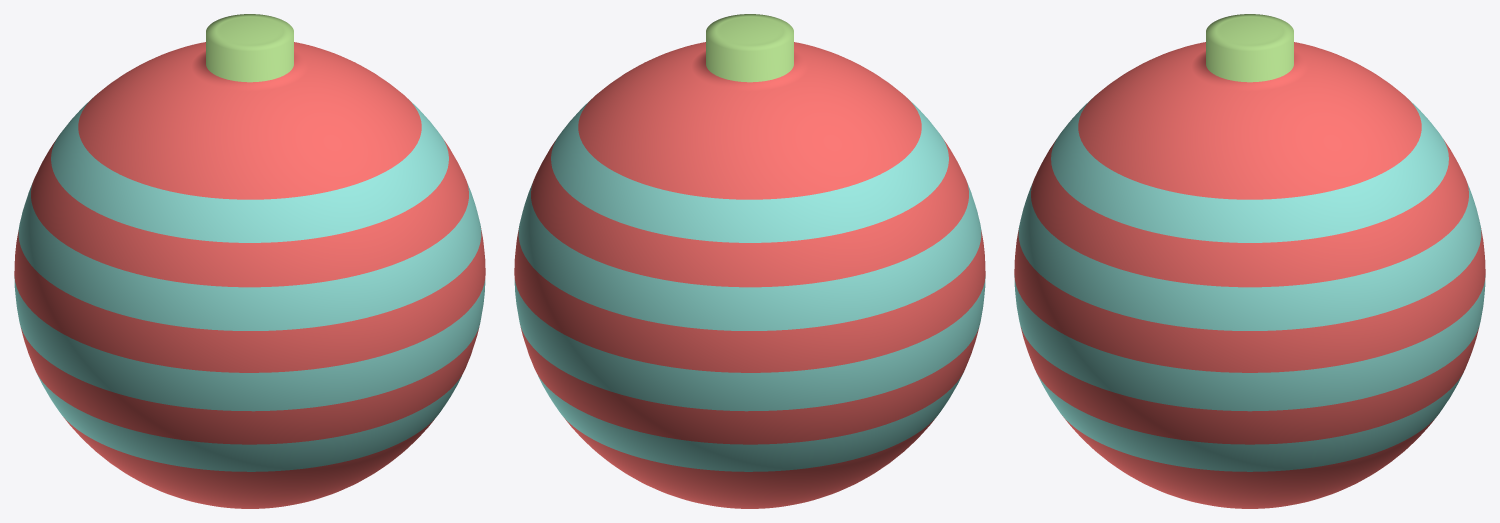
File: kerstred.glb
3 renders of one model, left to right at view 1: azimuth 30°, elevation 25°; view 2: azimuth 150°, elevation 25°; view 3: azimuth 270°, elevation 25°, orthographic.
Visible parts, largest first — view 1: Sphere; view 2: Sphere; view 3: Sphere.
Boxes of the visible parts, <box> form: Sphere: <box>14,14,485,508</box>; Sphere: <box>514,14,985,508</box>; Sphere: <box>1014,14,1485,508</box>.
Bounding box in the file's own units: 2 × 2.14 × 2.
